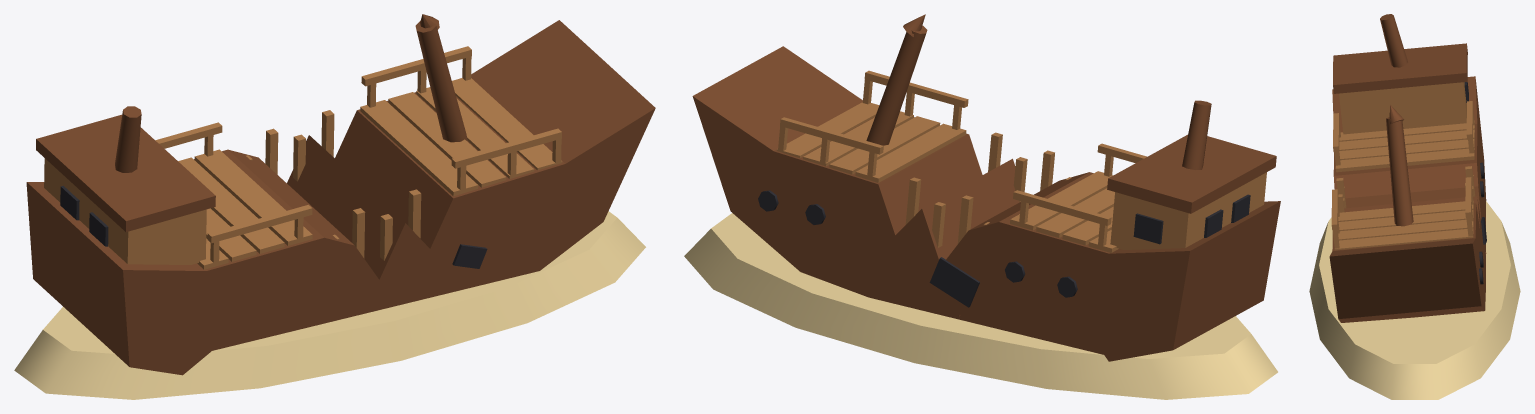
Rendered from AQ_SUNKEN_SHIP.glb.
The picture shows the model from 3 angles, left to right: view 1: azimuth 30°, elevation 25°; view 2: azimuth 150°, elevation 25°; view 3: azimuth 270°, elevation 25°; orthographic projection. The views are drawn at different scales.
Parts seen in each view (by area): view 1: hull, sand_mound, deck_planks, cabin_roof, cabin, mast, rails, ribs, rail_posts, windows, hull_holes; view 2: hull, sand_mound, deck_planks, cabin_roof, cabin, mast, rails, ribs, rail_posts, windows, portholes, hull_holes; view 3: hull, sand_mound, deck_planks, cabin_roof, cabin, mast, rails, rail_posts, ribs, portholes.
Boxes of the visible parts, x1,y1,x2,y2 form: hull: (26, 20, 655, 375); sand_mound: (14, 211, 645, 399); deck_planks: (178, 78, 562, 269); cabin_roof: (36, 114, 215, 231); cabin: (44, 158, 206, 264); mast: (115, 14, 467, 172); rails: (155, 46, 561, 243); ribs: (246, 110, 421, 260); rail_posts: (204, 56, 561, 263); windows: (60, 185, 108, 246); hull_holes: (452, 244, 487, 268); hull: (692, 46, 1280, 361); sand_mound: (684, 213, 1277, 399); deck_planks: (777, 102, 1118, 252); cabin_roof: (1107, 134, 1276, 213); cabin: (1110, 172, 1266, 249); mast: (866, 14, 1211, 169); rails: (780, 70, 1146, 225); ribs: (905, 132, 1071, 247); rail_posts: (778, 79, 1113, 247); windows: (1133, 194, 1250, 244); portholes: (758, 190, 1077, 297); hull_holes: (929, 257, 979, 307); hull: (1329, 76, 1486, 322); sand_mound: (1309, 201, 1520, 399); deck_planks: (1334, 120, 1474, 250); cabin_roof: (1333, 43, 1467, 93); cabin: (1339, 82, 1466, 134); mast: (1380, 14, 1413, 226); rails: (1331, 101, 1473, 230); rail_posts: (1332, 113, 1474, 248); ribs: (1336, 166, 1475, 212); portholes: (1479, 162, 1484, 284).
Bounding box in the file's own units: 9.73 × 4.47 × 3.99.
